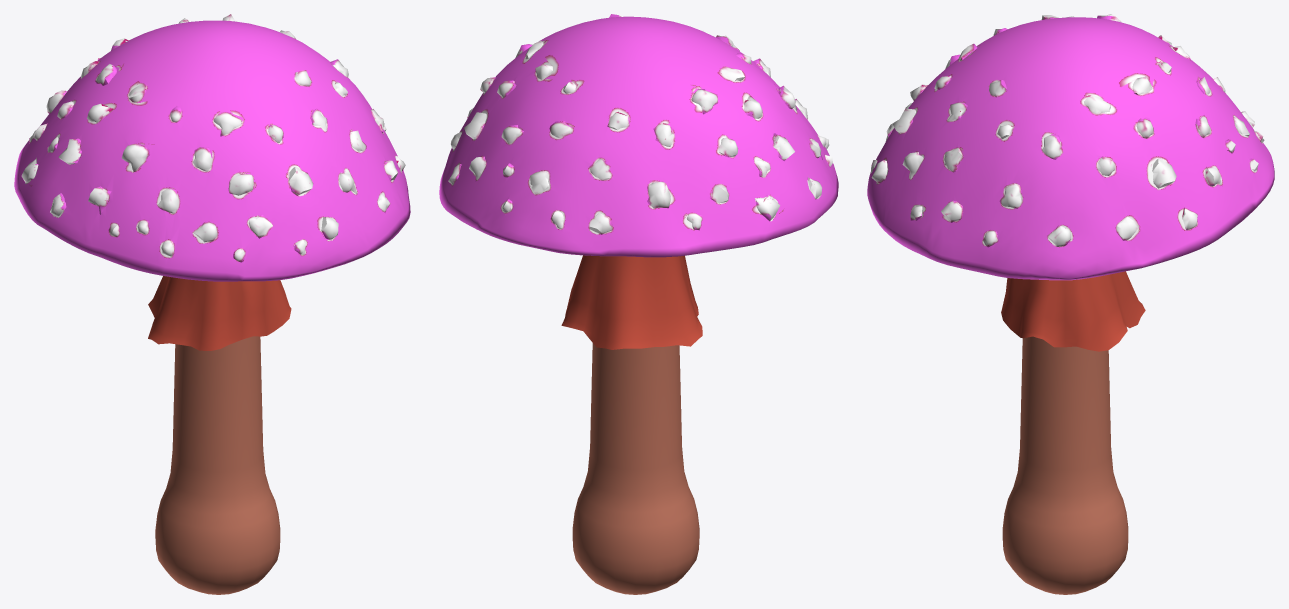
Rendered from pruebaColor3.glb.
3 renders of one model, left to right at view 1: azimuth 30°, elevation 25°; view 2: azimuth 150°, elevation 25°; view 3: azimuth 270°, elevation 25°, orthographic.
Visible parts, largest first — view 1: Malla, Malla_2, Malla_1; view 2: Malla, Malla_2, Malla_1; view 3: Malla, Malla_2, Malla_1.
Boxes of the visible parts, <box> form: Malla: <box>14,14,410,281</box>; Malla_2: <box>155,336,280,594</box>; Malla_1: <box>148,276,291,350</box>; Malla: <box>439,14,838,257</box>; Malla_2: <box>572,343,699,594</box>; Malla_1: <box>561,255,702,349</box>; Malla: <box>867,14,1274,280</box>; Malla_2: <box>1002,336,1128,594</box>; Malla_1: <box>1001,271,1145,351</box>.
Bounding box in the file's own units: 3.99 × 6.05 × 4.
Materials: 3 (3 with a texture image).
